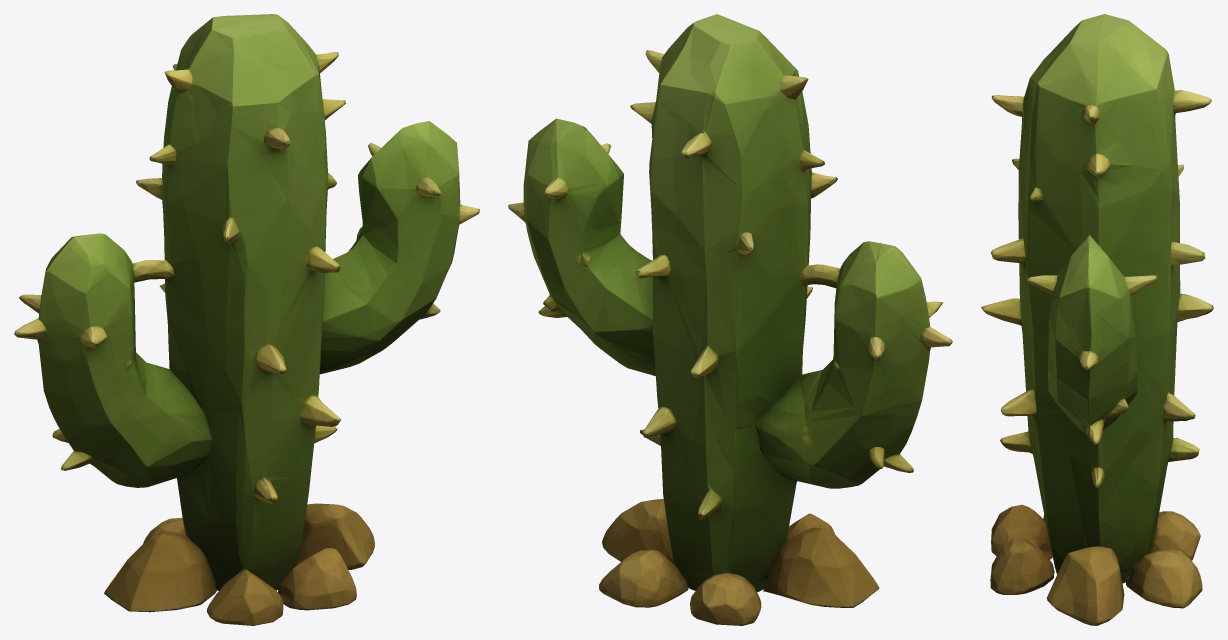
The model's file is cactus.glb.
3 renders of one model, left to right at view 1: azimuth 30°, elevation 25°; view 2: azimuth 150°, elevation 25°; view 3: azimuth 270°, elevation 25°, orthographic. The views are drawn at different scales.
Visible parts, largest first — view 1: world; view 2: world; view 3: world.
Boxes of the visible parts, x1=… form: world: x1=14, y1=14, x2=479, y2=625; world: x1=508, y1=14, x2=952, y2=625; world: x1=981, y1=14, x2=1213, y2=625.
Bounding box in the file's own units: 0.8603 × 0.9997 × 0.39.
1 material, 1 textured.
